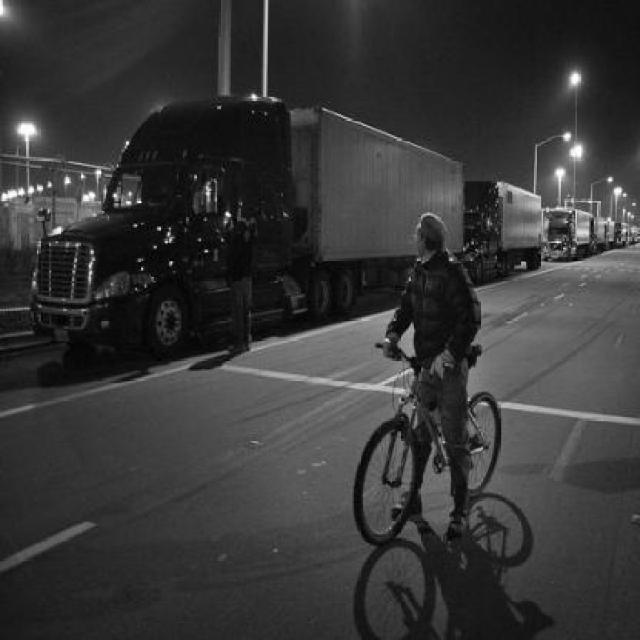Person: (378, 210, 482, 542), (226, 214, 256, 355)
